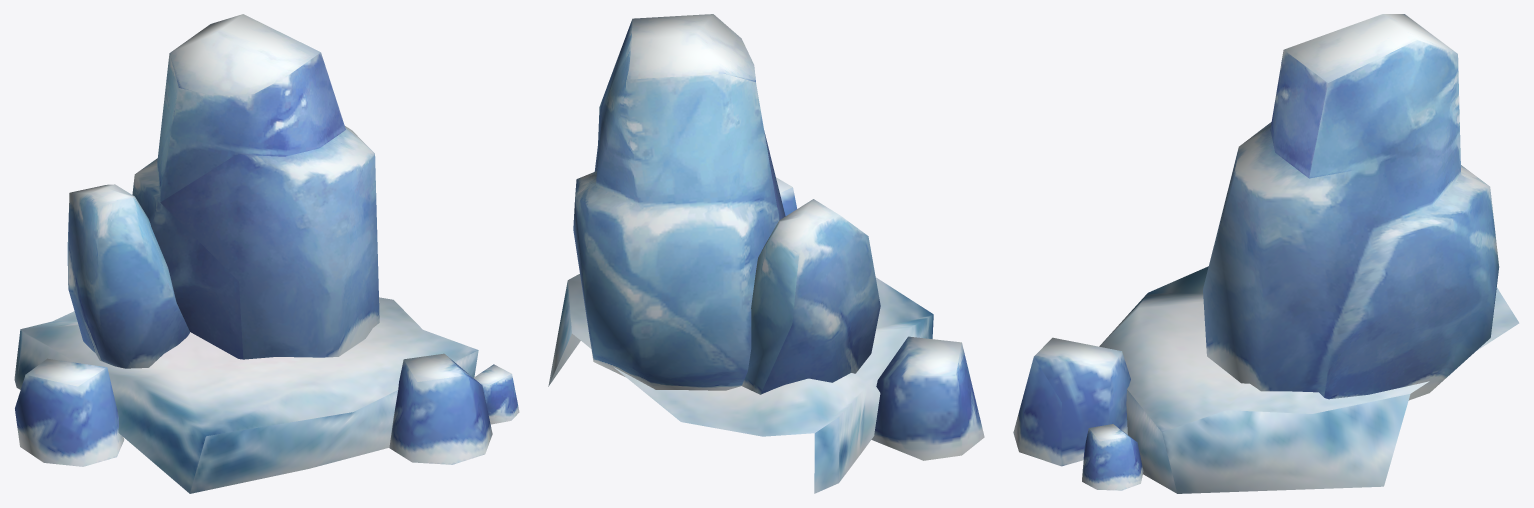
File: SM_stoneD_01.fbx
3 renders of one model, left to right at view 1: azimuth 30°, elevation 25°; view 2: azimuth 150°, elevation 25°; view 3: azimuth 270°, elevation 25°, orthographic. The views are drawn at different scales.
Parts seen in each view (by area): view 1: SM_stoneD_01; view 2: SM_stoneD_01; view 3: SM_stoneD_01.
Boxes of the visible parts, x1=… form: SM_stoneD_01: x1=14, y1=14, x2=519, y2=493; SM_stoneD_01: x1=548, y1=14, x2=984, y2=493; SM_stoneD_01: x1=1013, y1=14, x2=1519, y2=493.
Size of the model in its own units: 6.67 by 5.8 by 6.42.
